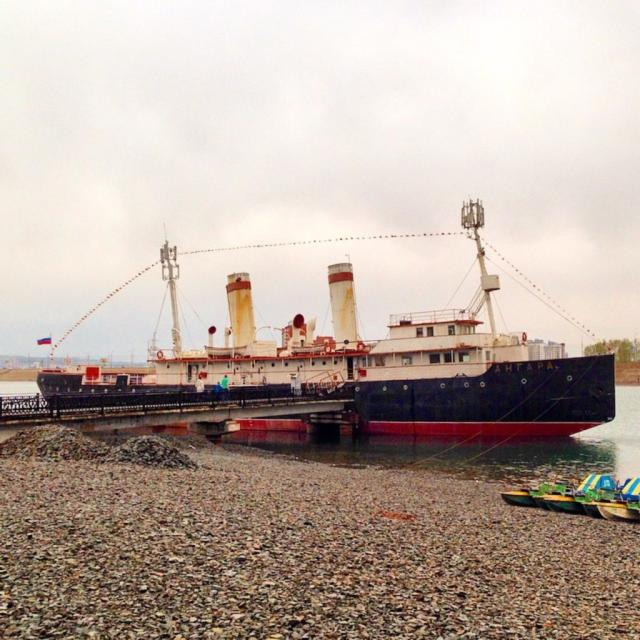Boat: (38, 247, 640, 443), (493, 470, 639, 530)
